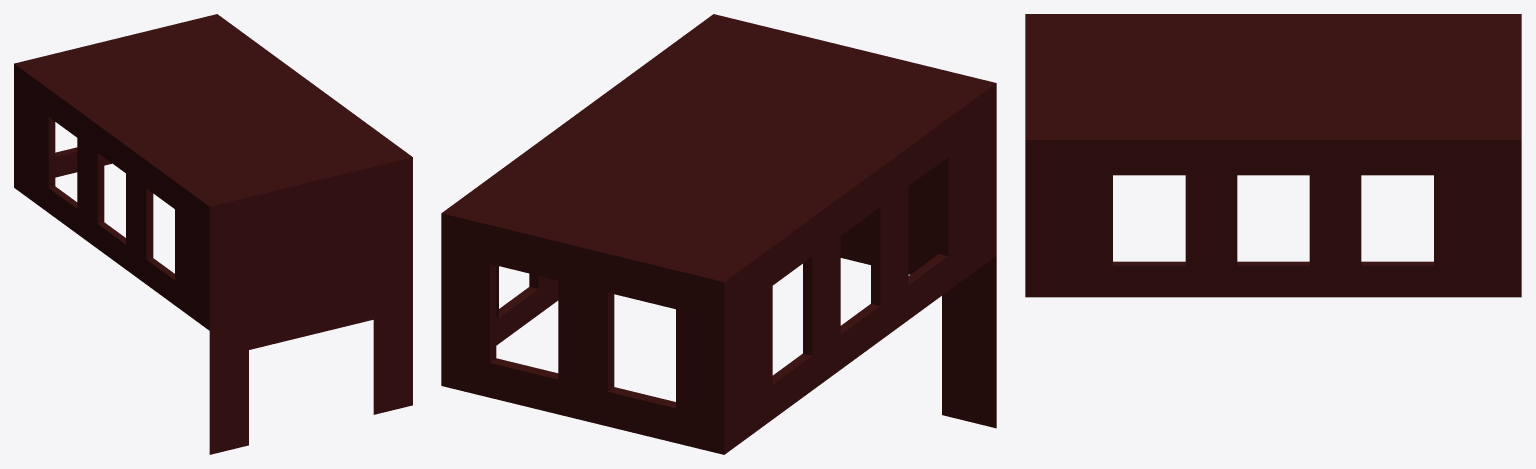
Rendered from SM_shop_02.fbx.
The picture shows the model from 3 angles, left to right: view 1: azimuth 30°, elevation 25°; view 2: azimuth 150°, elevation 25°; view 3: azimuth 270°, elevation 25°; orthographic projection. The views are drawn at different scales.
Visible parts, largest first — view 1: 2nd_wall; view 2: 2nd_wall; view 3: 2nd_wall.
Boxes of the visible parts, box(x1,y1,x2,y2) form: 2nd_wall: box(14, 14, 412, 454); 2nd_wall: box(441, 14, 996, 454); 2nd_wall: box(1025, 14, 1521, 297).
Bounding box in the file's own units: 6001 × 7000 × 10000.
